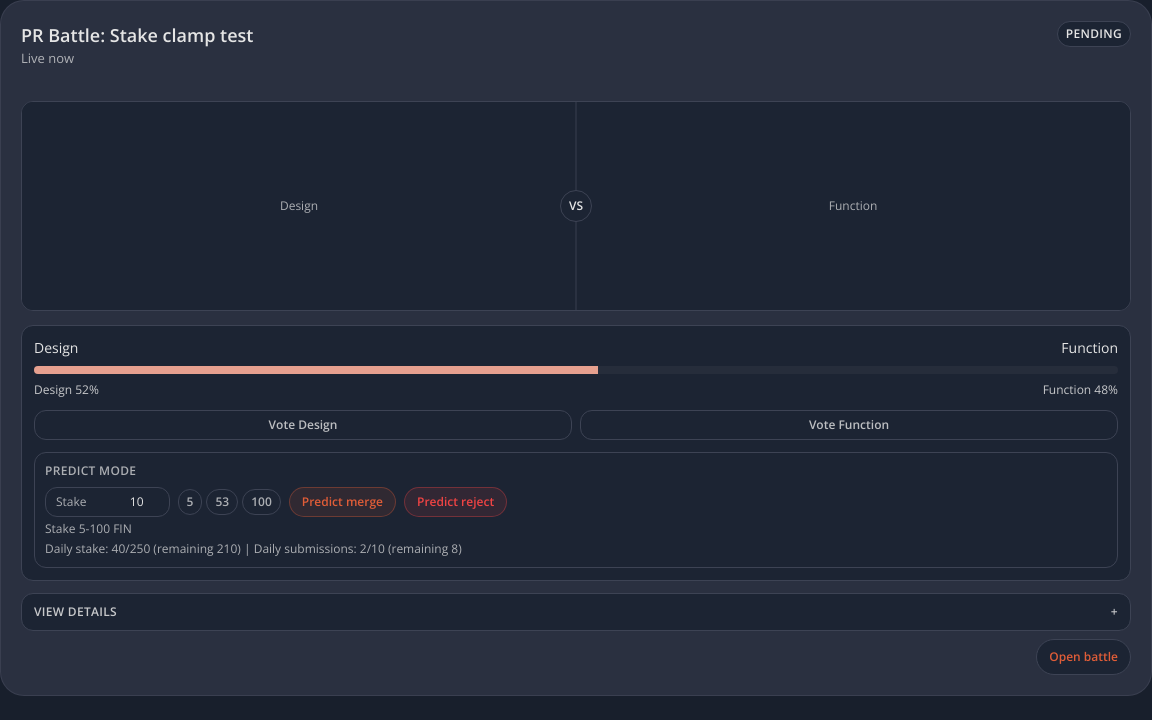
feed cards › clamps out-of-range stake input and shows adjustment hint
Step 1. Replace the text in the number field labelled "Stake" with "500" → (127, 502), box left=95, top=494, right=159, bottom=510
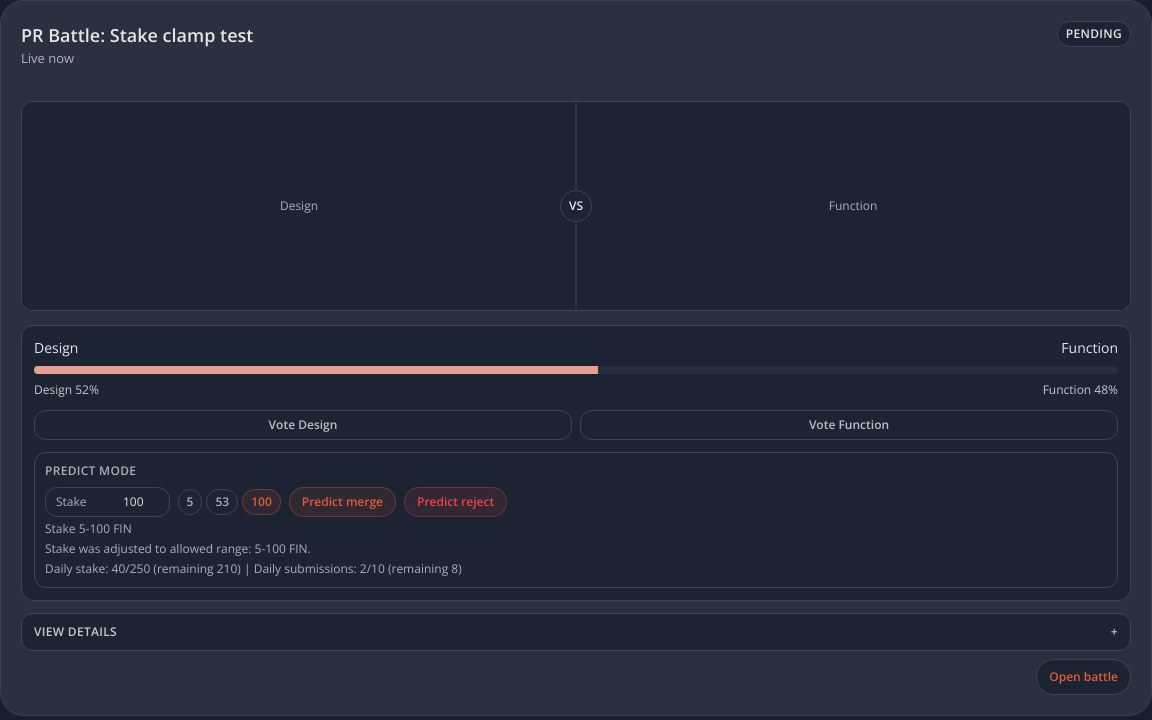
Expected: the number field labelled "Stake" holds "100", left=95, top=494, right=159, bottom=510
Expected: the text "Stake was adjusted to allowed range: 5-100 FIN." is shown, left=45, top=540, right=311, bottom=556
Step 2. Click the button named "Stake 5" → (190, 502), box left=178, top=488, right=202, bottom=514
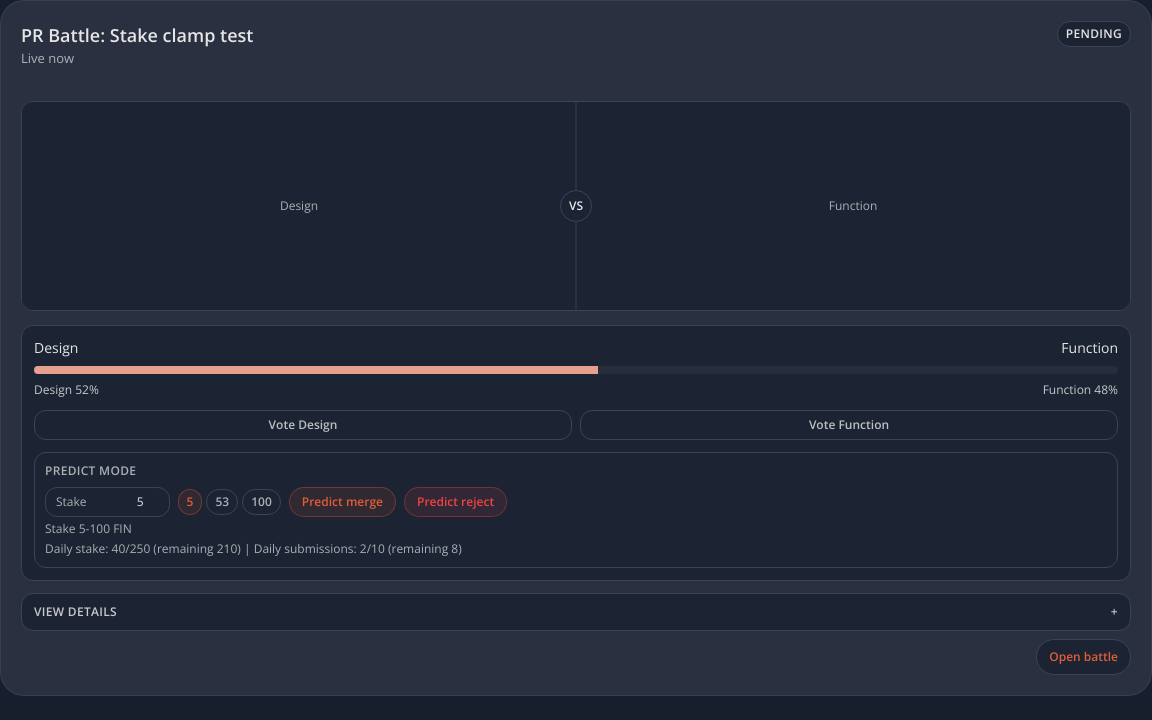
Expected: the text "Stake was adjusted to allowed range: 5-100 FIN." is gone
